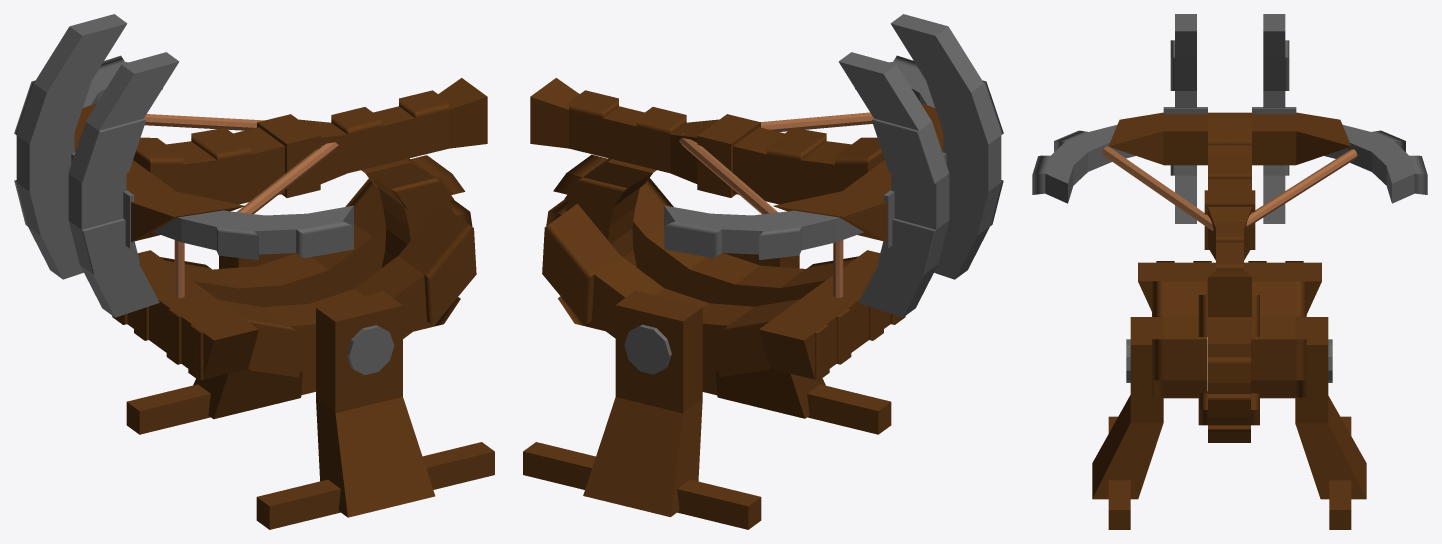
File: Ballista_ChainedArrows.fbx
3 renders of one model, left to right at view 1: azimuth 30°, elevation 25°; view 2: azimuth 150°, elevation 25°; view 3: azimuth 270°, elevation 25°, orthographic. The views are drawn at different scales.
Parts seen in each view (by area): view 1: Full, pCylinder5, pCylinder6; view 2: Full, pCylinder6, pCylinder5; view 3: Full, pCylinder5, pCylinder6.
Boxes of the visible parts, left/top/right/bottom form: Full: left=14, top=14, right=494, bottom=529; pCylinder5: left=236, top=142, right=338, bottom=213; pCylinder6: left=144, top=114, right=320, bottom=130; Full: left=523, top=14, right=1003, bottom=529; pCylinder6: left=679, top=133, right=778, bottom=214; pCylinder5: left=760, top=112, right=873, bottom=131; Full: left=1032, top=14, right=1427, bottom=529; pCylinder5: left=1102, top=146, right=1213, bottom=230; pCylinder6: left=1241, top=149, right=1357, bottom=227.
Size of the model in its own units: 9.45 by 9.59 by 8.95.
